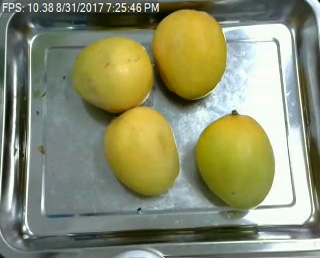Mango: (194, 112, 274, 210), (105, 104, 181, 197), (152, 10, 227, 100), (71, 37, 151, 112)
